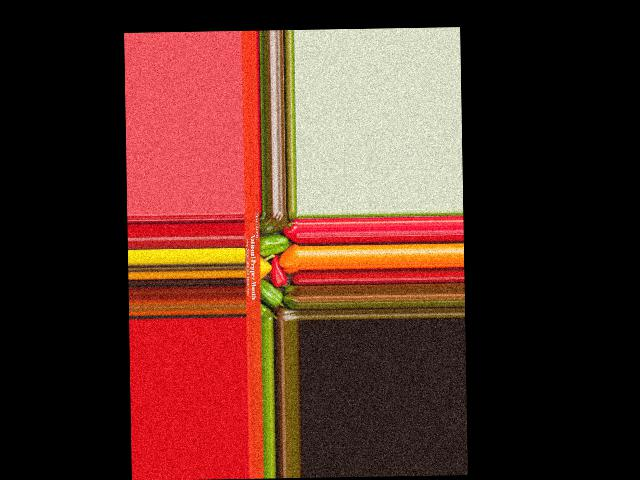bell_pepper: (258, 211, 287, 233)
